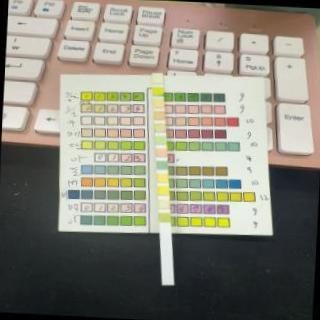mark: (158, 212, 170, 222), (155, 147, 166, 157), (156, 160, 167, 170), (158, 199, 169, 209), (154, 122, 164, 132), (153, 111, 164, 120), (156, 173, 167, 182), (152, 74, 162, 83), (152, 86, 162, 95), (158, 185, 168, 194), (153, 100, 163, 108), (155, 136, 165, 144)
